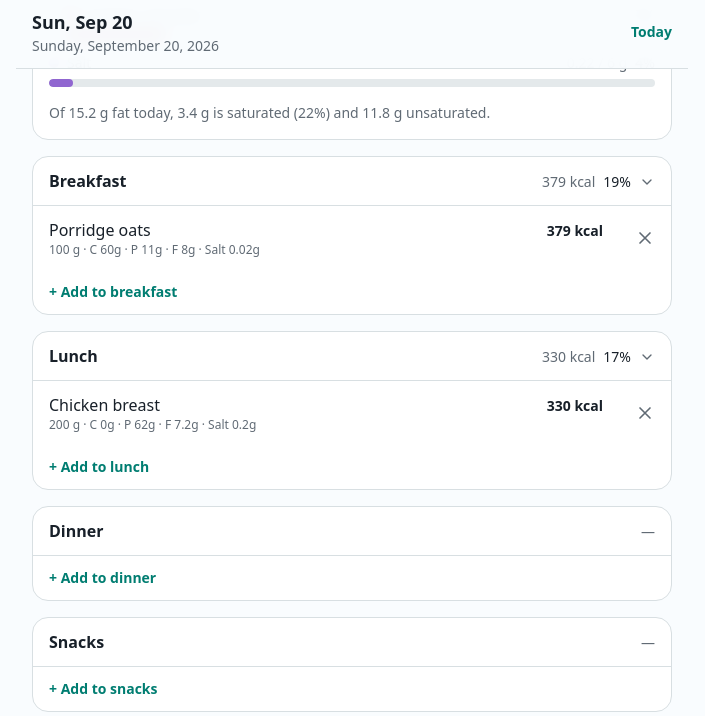
Test: TodayPage — per-meal breakdown › measures the meal against the daily target, not the day so far
(page scrolled)
Click the button "Lunch 330 kcal 17%": (73, 356) [33,332,671,381]
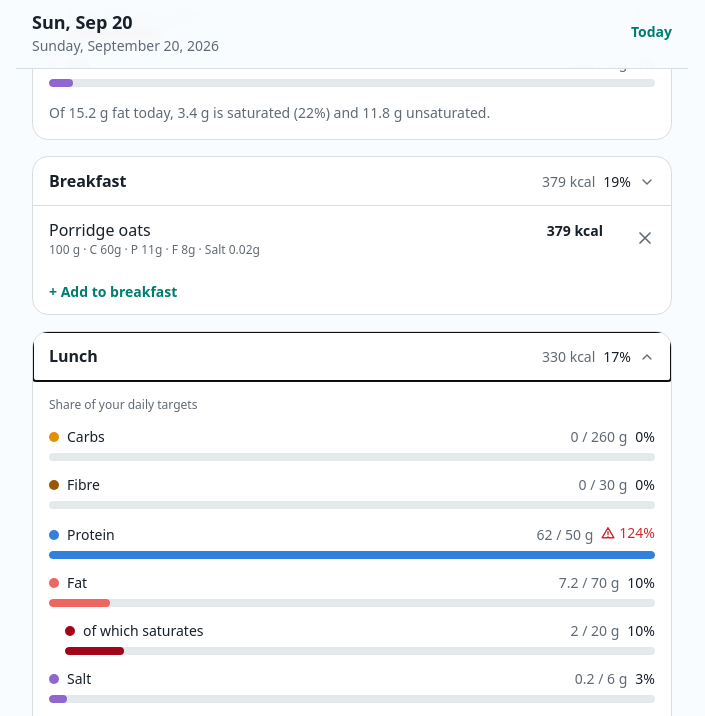
Expected: the progress indicator named "Protein: 124% of goal" is shown, [49,551,655,559]
